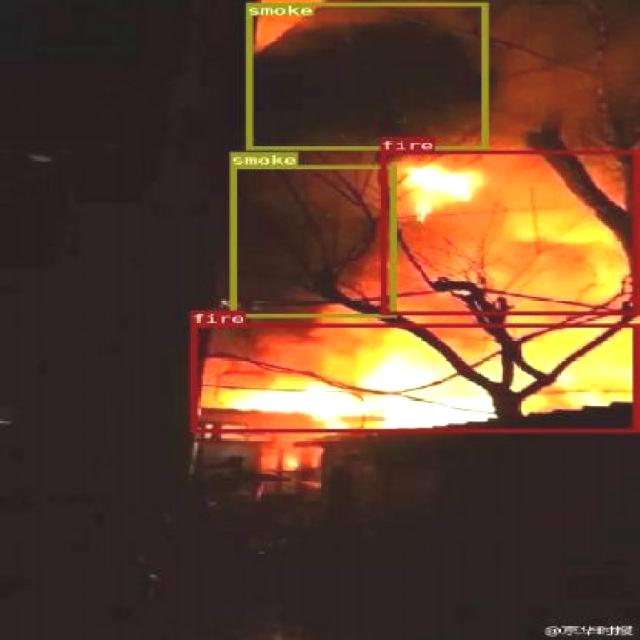fire: (189, 323, 637, 431), (378, 149, 637, 314)
smoke: (244, 2, 486, 148), (228, 165, 394, 318)
